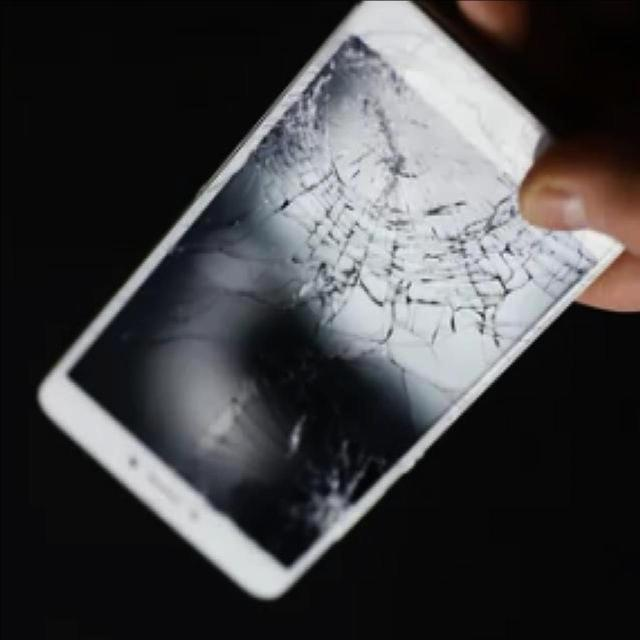Crack: (250, 59, 521, 529)
